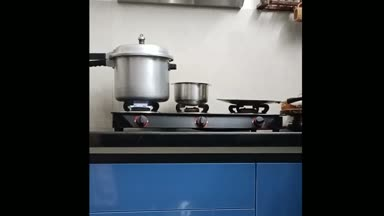flame_gas_off: (231, 105, 272, 129)
flame_gas_on: (121, 99, 158, 128)
noflame_gason: (178, 105, 212, 129)
